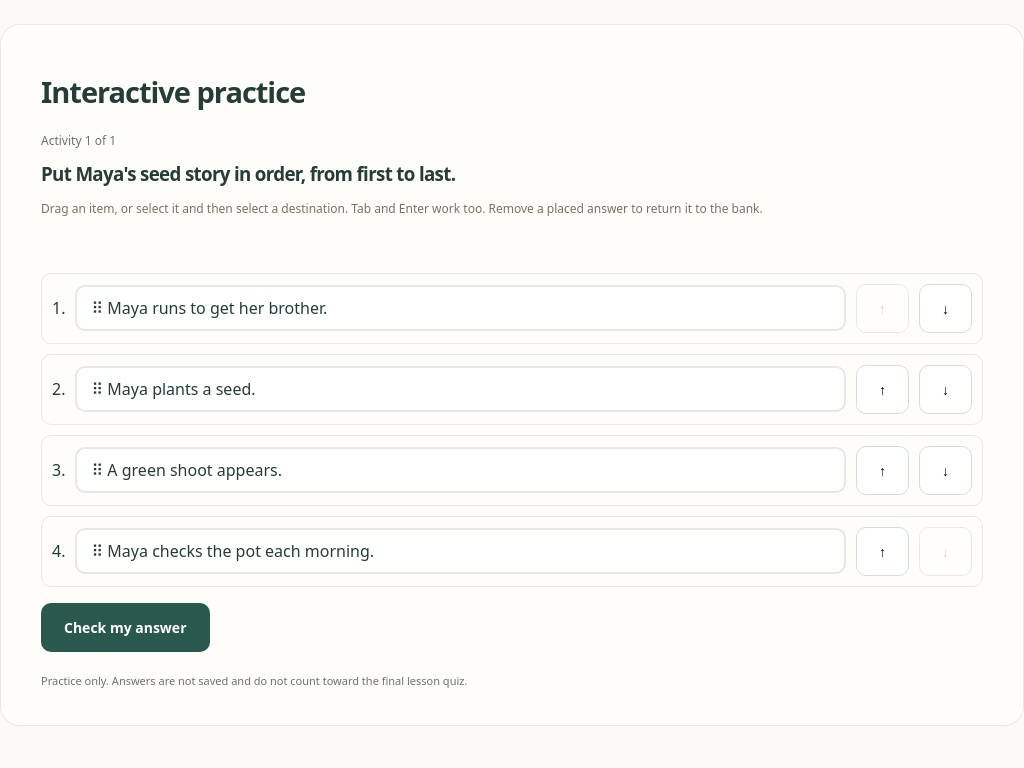
Test: reusable interactive practice › shows sequence destinations only while selecting a different position
Step 1. Click the button "⠿ Maya plants a seed." → coordinates (181, 389), box [76,366,846,412]
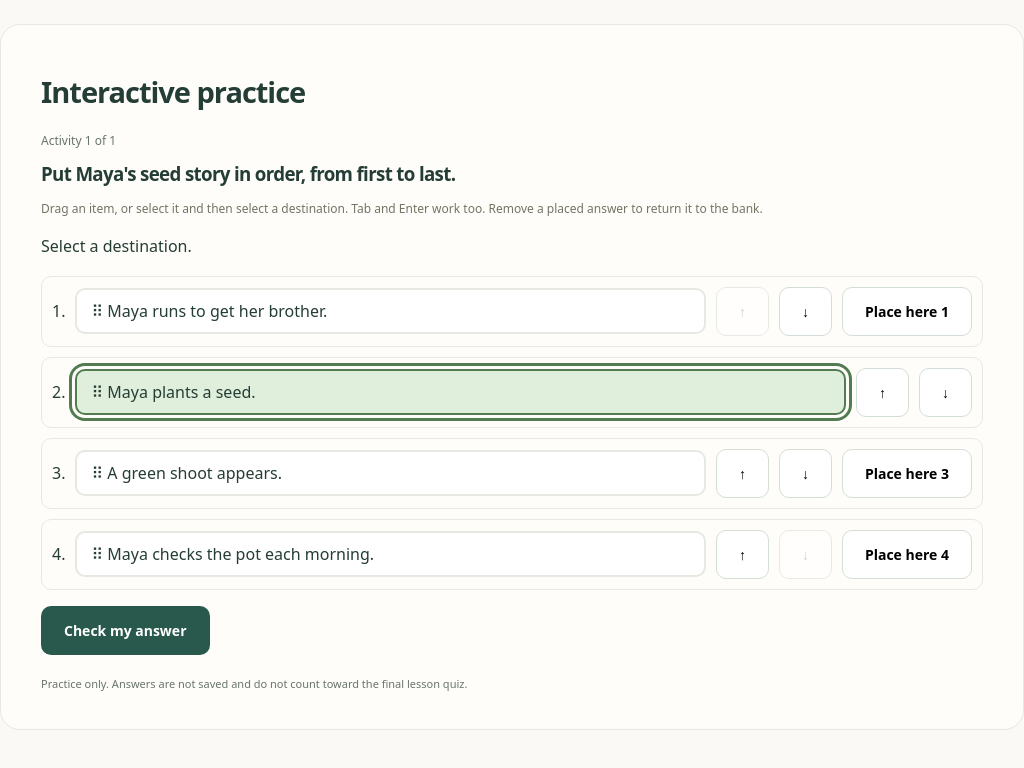
Step 2. Click the button "Place here 1" → coordinates (907, 312), box [842,287,972,336]
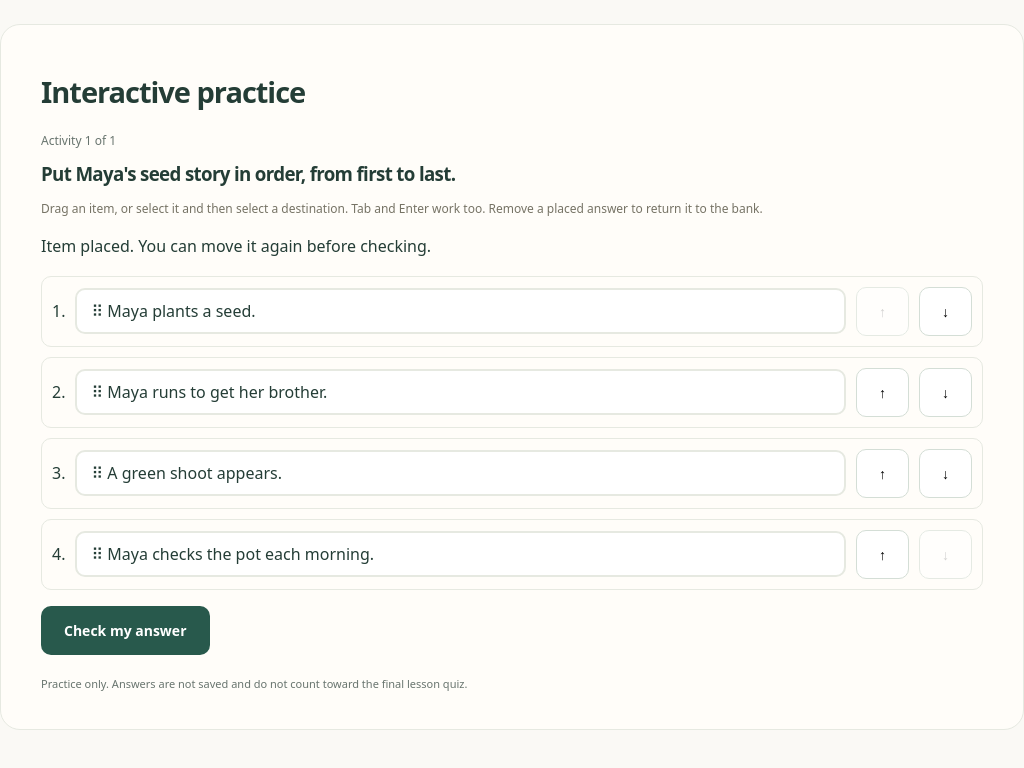
Expected: the button named "Move down Maya plants a seed." is shown, [919,287,972,336]
Expected: the button "Place here" is gone
